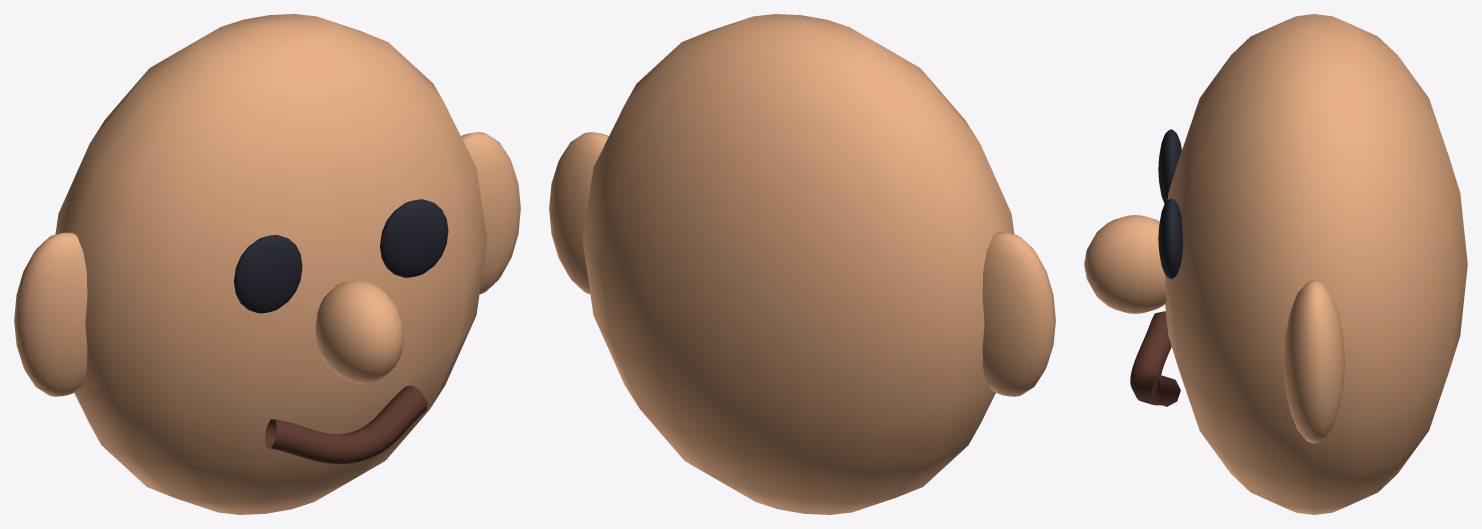
File: word-face.glb
3 renders of one model, left to right at view 1: azimuth 30°, elevation 25°; view 2: azimuth 150°, elevation 25°; view 3: azimuth 270°, elevation 25°, orthographic. The views are drawn at different scales.
Parts seen in each view (by area): view 1: head, ear, nose, mouth, ear.001, eye, eye.001; view 2: head, ear, ear.001; view 3: head, ear.001, nose, mouth, eye.001, eye.
Part boxes in pixels (left/top/right/bottom): head: left=55, top=14, right=487, bottom=514; ear: left=14, top=232, right=87, bottom=396; nose: left=315, top=280, right=403, bottom=383; mouth: left=264, top=385, right=427, bottom=463; ear.001: left=461, top=132, right=520, bottom=294; eye: left=234, top=235, right=302, bottom=313; eye.001: left=380, top=199, right=448, bottom=277; head: left=582, top=14, right=1014, bottom=514; ear: left=982, top=232, right=1055, bottom=396; ear.001: left=549, top=132, right=608, bottom=294; head: left=1165, top=14, right=1467, bottom=514; ear.001: left=1283, top=280, right=1344, bottom=443; nose: left=1084, top=215, right=1166, bottom=313; mouth: left=1130, top=311, right=1180, bottom=406; eye.001: left=1158, top=198, right=1182, bottom=278; eye: left=1158, top=129, right=1181, bottom=203.
Size of the model in its own units: 1.1 by 1 by 0.75.
